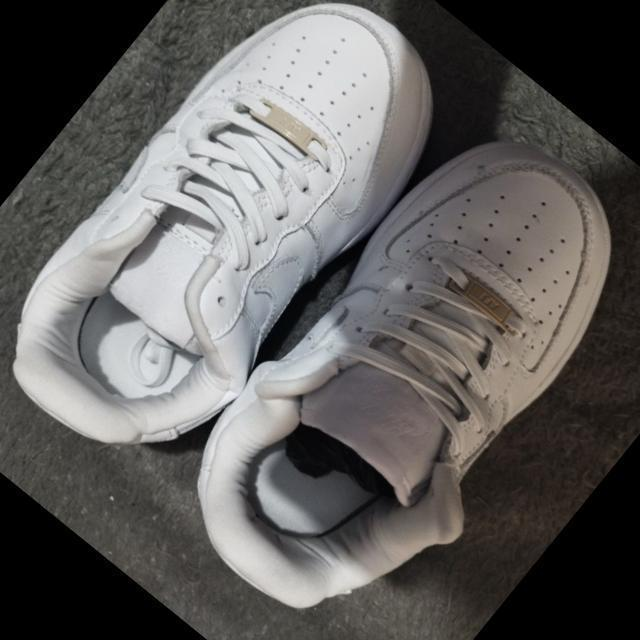nike fake air force: (141, 84, 640, 640), (0, 0, 481, 498)
